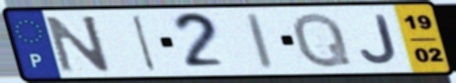2: (170, 10, 236, 74)
I: (244, 11, 277, 71), (130, 13, 159, 73)
J: (358, 13, 400, 66)
N: (42, 13, 114, 74)
Q: (290, 10, 355, 70)
